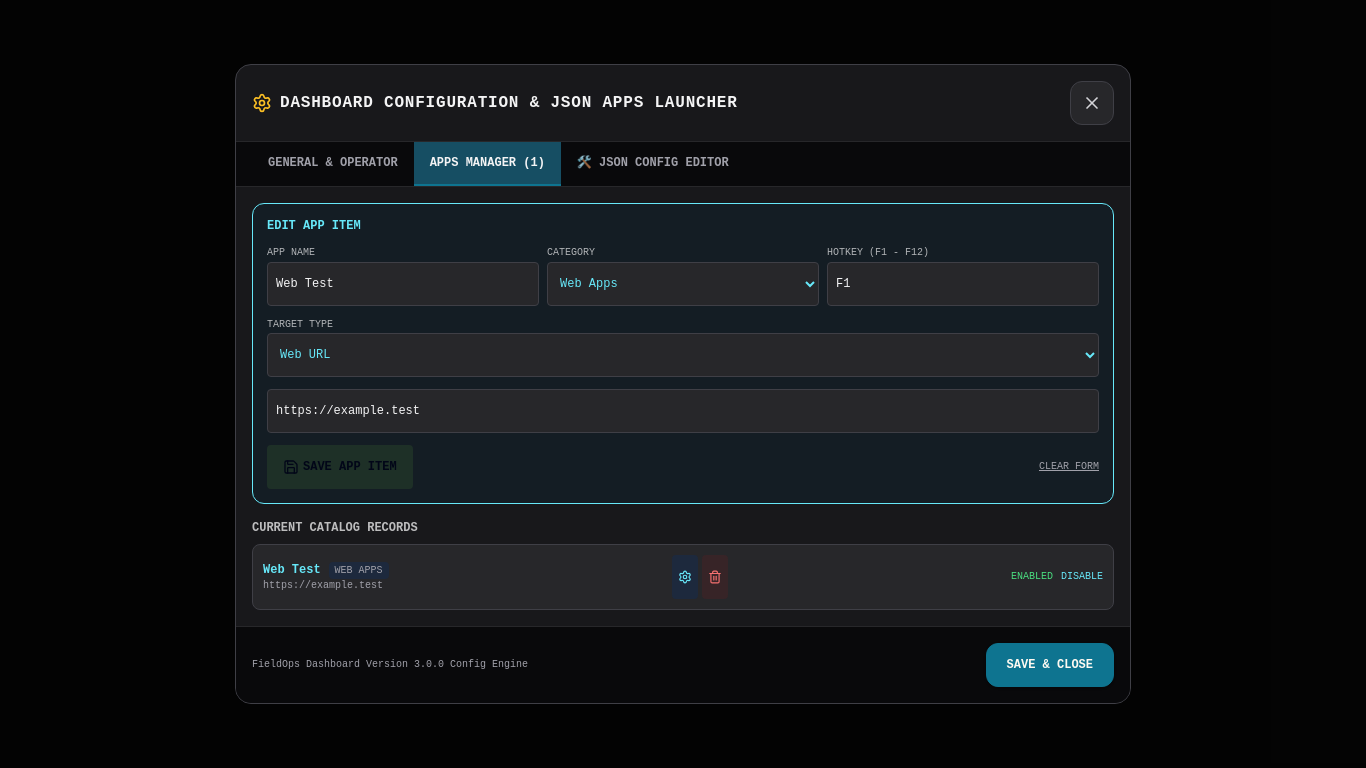
Test: catalog management modal › keeps the previous catalog visible when persistence fails
Expected: the 3rd field showing "https://example.test" is shown, [267,389,1099,433]
Click the button "SAVE APP ITEM" at (340, 467), box [267,445,413,489]
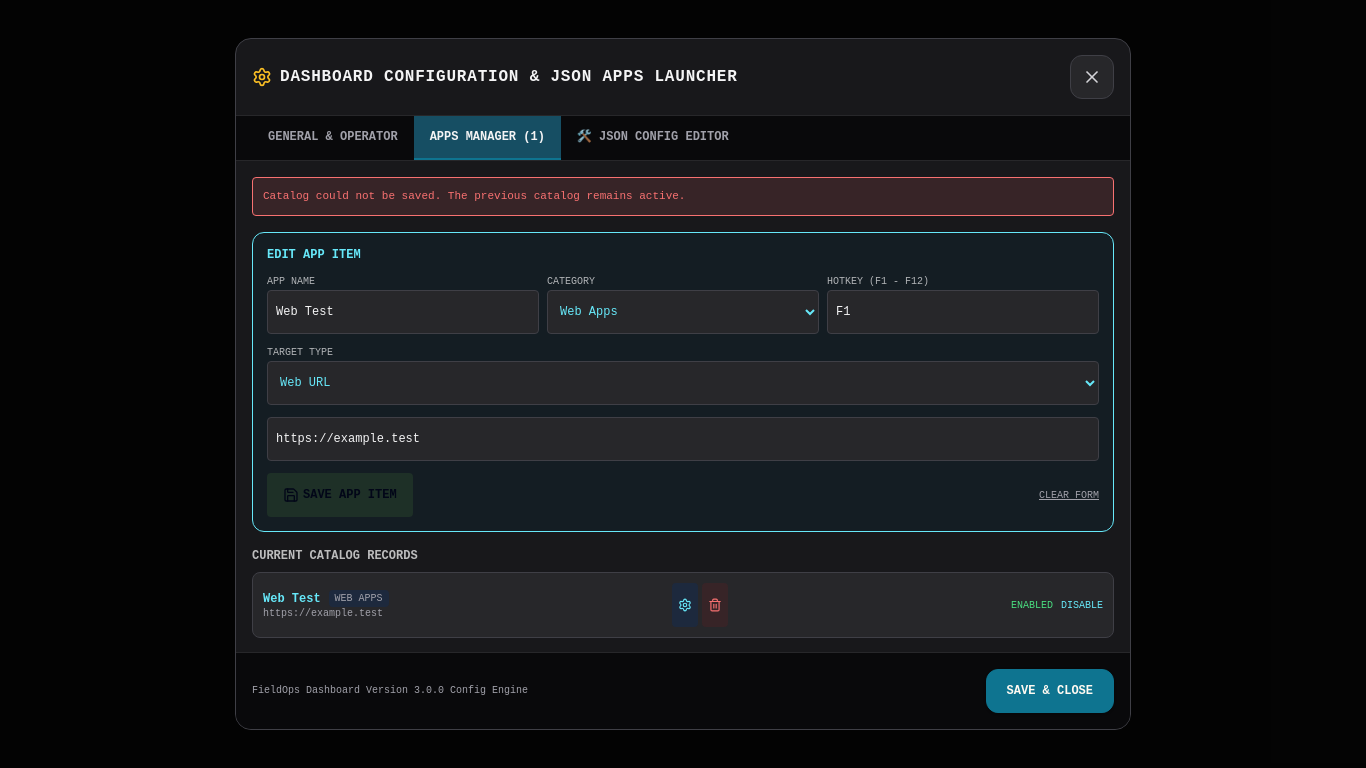
Expected: the 3rd field showing "https://example.test" is shown, [267,417,1099,461]
Expected: the text "Catalog could not be saved. The previous catalog remains active." is shown, [252,177,1114,216]
